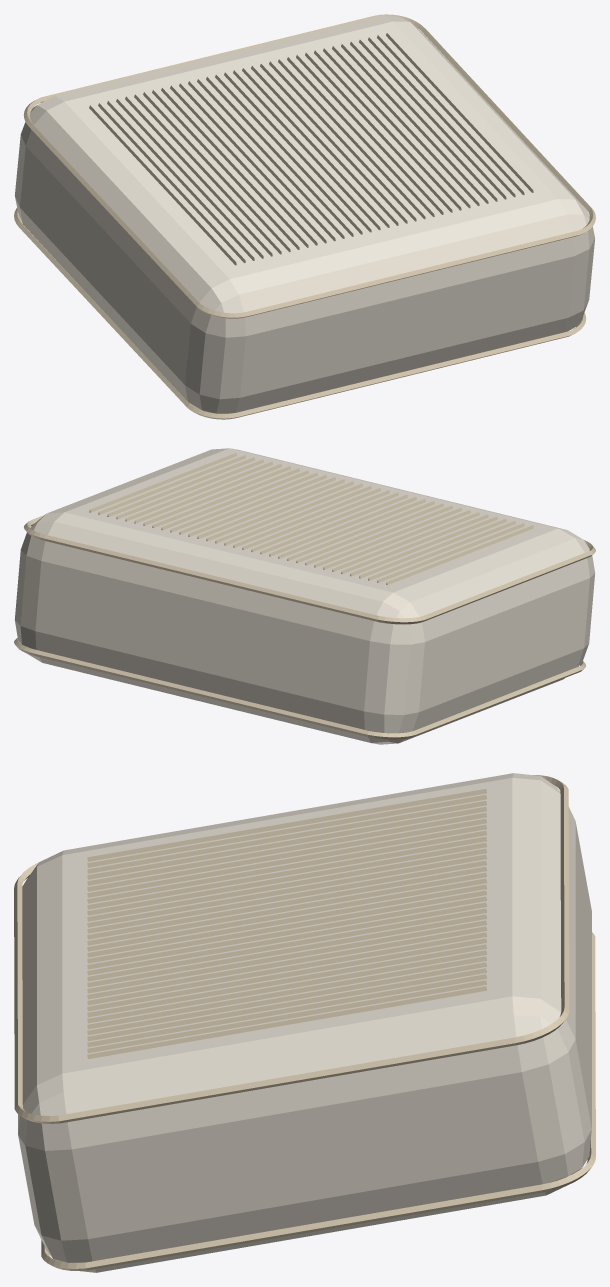
Rendered from pillow_square_45_lean.fbx.
3 views of the same model, one above another, from view 1: azimuth 30°, elevation 25°; view 2: azimuth 150°, elevation 25°; view 3: azimuth 270°, elevation 25° (orthographic). The views are drawn at different scales.
Parts seen in each view (by area): view 1: pillow_square_45_lean; view 2: pillow_square_45_lean; view 3: pillow_square_45_lean.
Boxes of the visible parts, x1,y1,x2,y2 form: pillow_square_45_lean: (14,14,595,419); pillow_square_45_lean: (14,448,595,744); pillow_square_45_lean: (14,773,595,1272).
Bounding box in the file's own units: 0.48 × 0.2293 × 0.4449.
